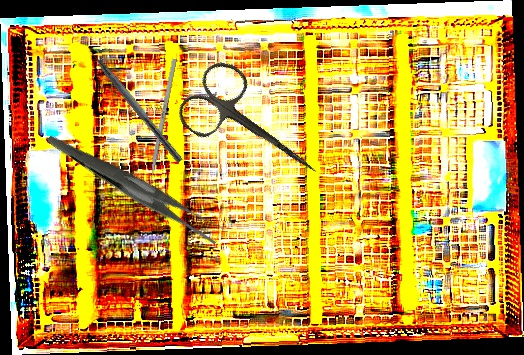Chopper: (77, 33, 193, 165)
Dressing Forceps: (46, 91, 228, 281)
Iris Scissors: (171, 54, 339, 205)
Pusher: (144, 58, 178, 199)
